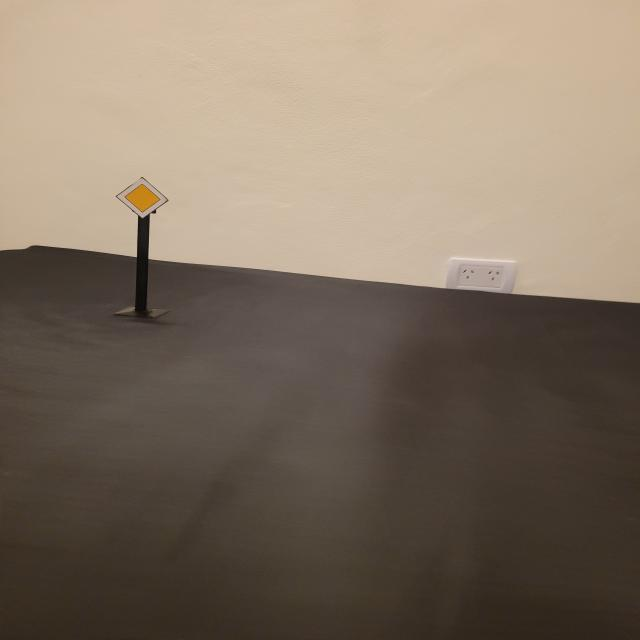priority: (115, 177, 168, 218)
